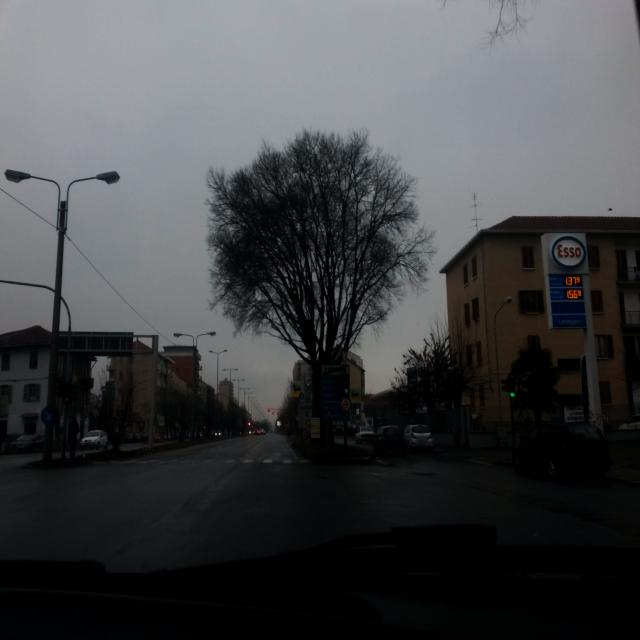car: (512, 421, 611, 482), (372, 424, 408, 457), (404, 423, 434, 454), (10, 432, 38, 453), (80, 430, 108, 450), (618, 412, 640, 432), (354, 425, 376, 445)
